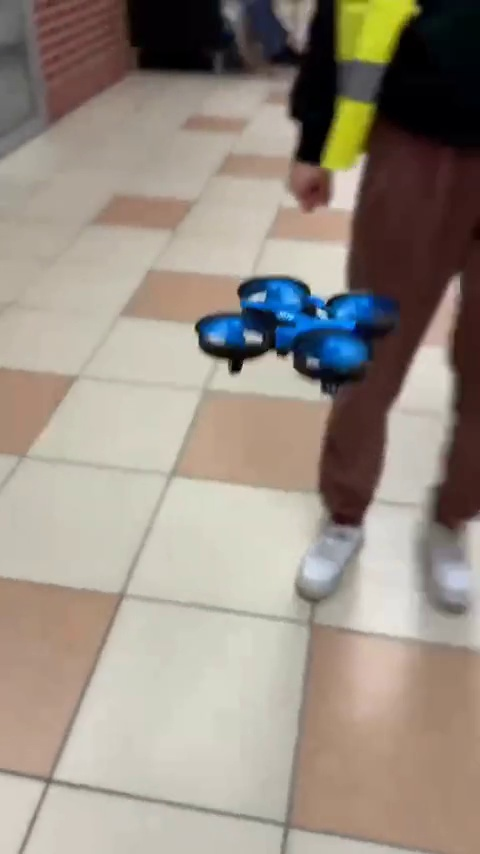drone: (195, 271, 385, 391)
